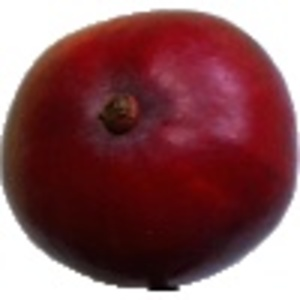manga: (1, 9, 300, 291)
